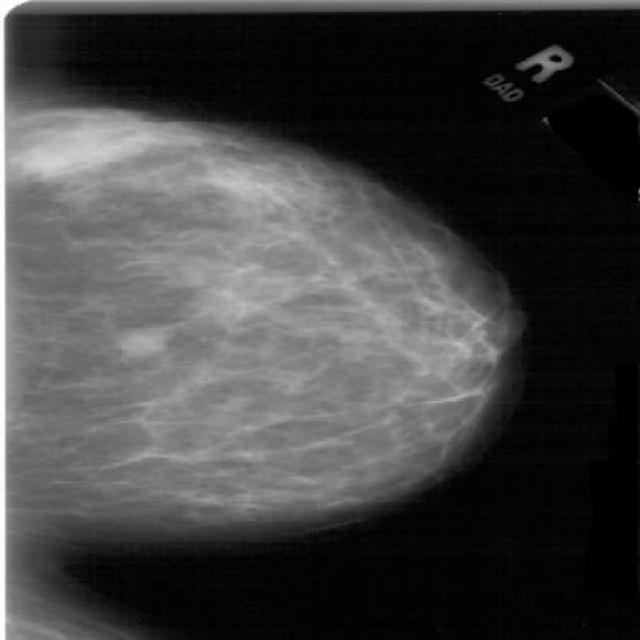tumor: (12, 102, 223, 188)
